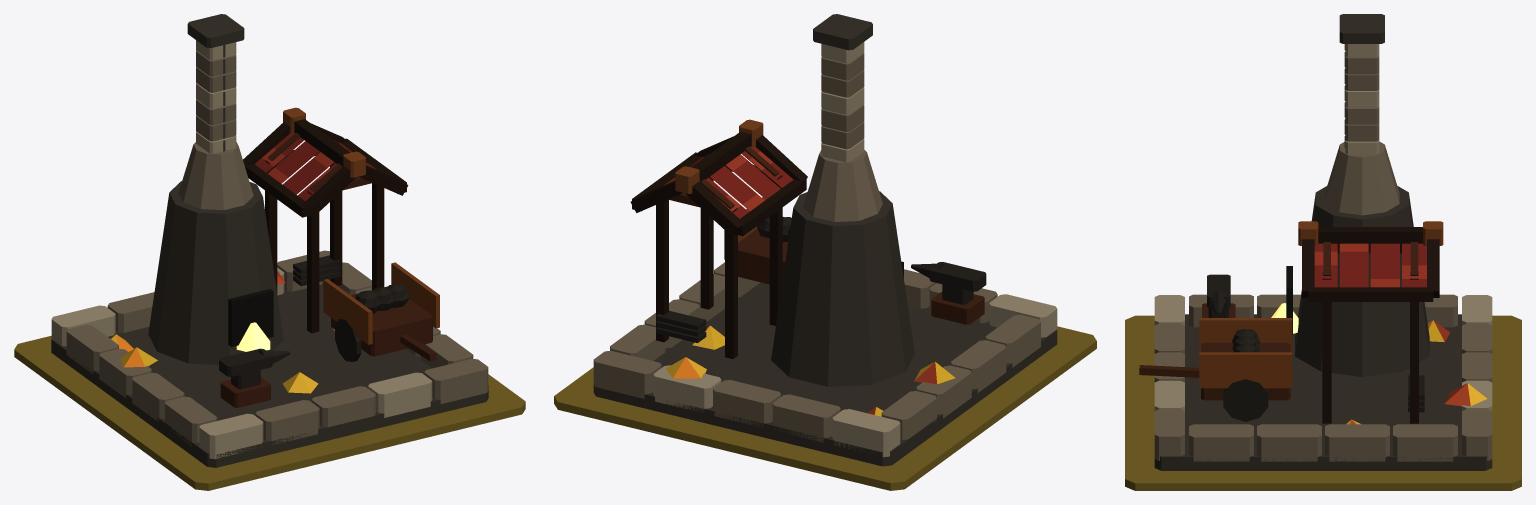
Rendered from smeltery_t3.glb.
3 renders of one model, left to right at view 1: azimuth 30°, elevation 25°; view 2: azimuth 150°, elevation 25°; view 3: azimuth 270°, elevation 25°, orthographic. The views are drawn at different scales.
Parts seen in each view (by area): view 1: MMR | smeltery | T03 Architecture.001, MMR | smeltery | Tier 03 Ground.001, MMR | smeltery | T03 Autumn Dressing.001, MMR | smeltery | T03 Flame Glow.001; view 2: MMR | smeltery | T03 Architecture.001, MMR | smeltery | Tier 03 Ground.001, MMR | smeltery | T03 Autumn Dressing.001; view 3: MMR | smeltery | T03 Architecture.001, MMR | smeltery | Tier 03 Ground.001, MMR | smeltery | T03 Autumn Dressing.001.
Part boxes in pixels (x1,y1,x2,y2): MMR | smeltery | T03 Architecture.001: (51, 14, 488, 467); MMR | smeltery | Tier 03 Ground.001: (14, 335, 525, 490); MMR | smeltery | T03 Autumn Dressing.001: (110, 271, 334, 393); MMR | smeltery | T03 Flame Glow.001: (236, 322, 270, 351); MMR | smeltery | T03 Architecture.001: (593, 14, 1057, 466); MMR | smeltery | Tier 03 Ground.001: (554, 326, 1096, 490); MMR | smeltery | T03 Autumn Dressing.001: (666, 325, 955, 416); MMR | smeltery | T03 Architecture.001: (1139, 14, 1492, 470); MMR | smeltery | Tier 03 Ground.001: (1125, 315, 1521, 490); MMR | smeltery | T03 Autumn Dressing.001: (1346, 320, 1487, 424).
Bounding box in the file's own units: 2.35 × 2.39 × 2.35.
Materials: 2 (1 with a texture image).
